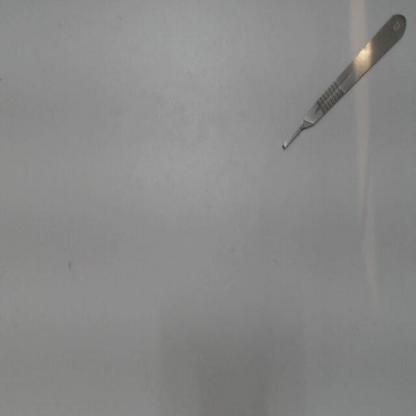No.3 BP Handle: (277, 4, 411, 159)
